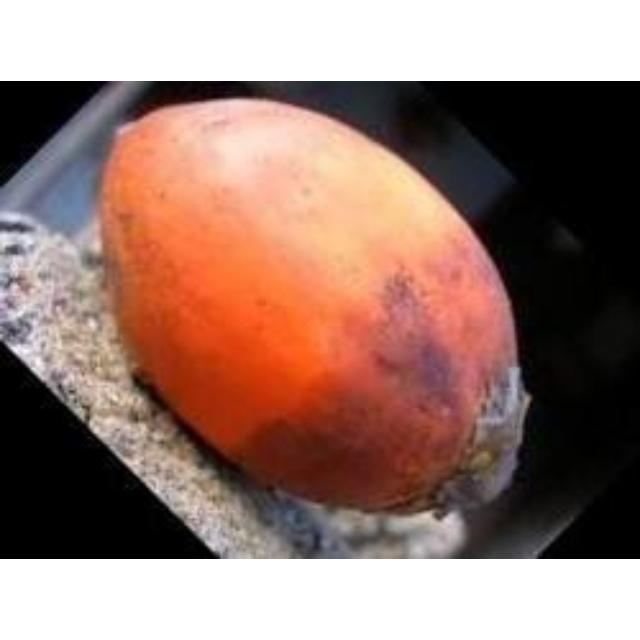good: (97, 99, 532, 521)
